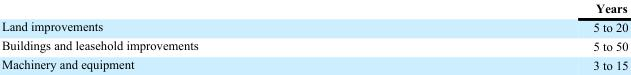table: (0, 1, 627, 72)
table column: (0, 1, 395, 72), (395, 1, 627, 72)
table column header: (0, 1, 627, 17)
table row: (0, 17, 627, 36), (0, 36, 627, 55), (0, 55, 627, 72), (0, 1, 627, 17)
